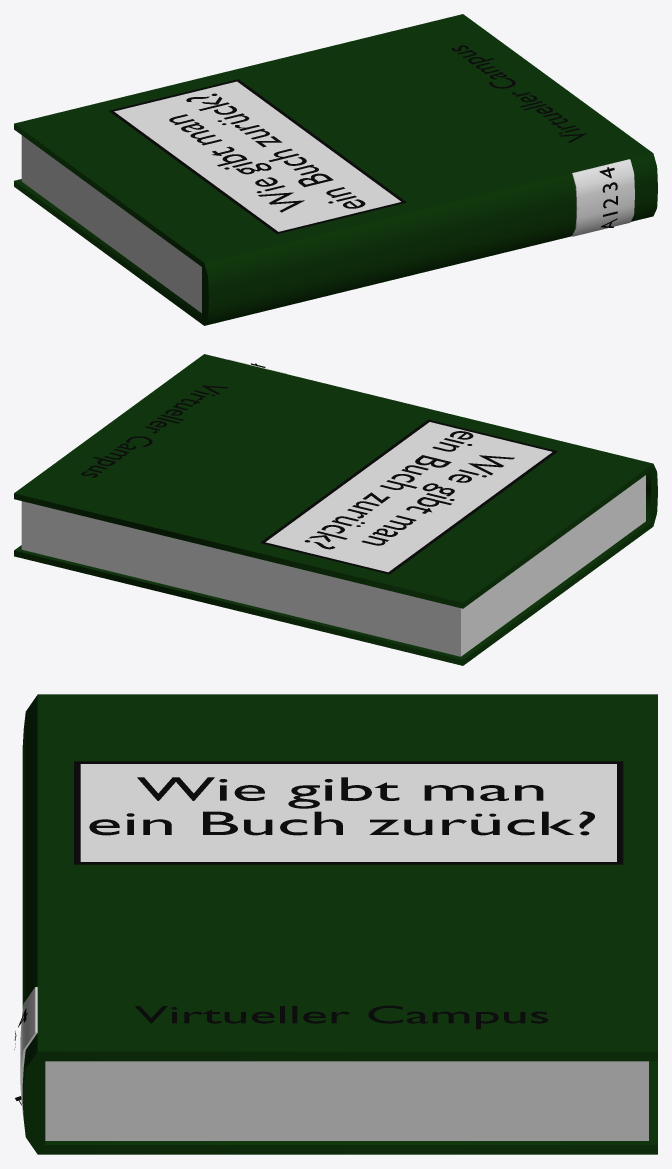
The model's file is Book_AR_closed.fbx.
The picture shows the model from 3 angles, top to bottom: view 1: azimuth 30°, elevation 25°; view 2: azimuth 150°, elevation 25°; view 3: azimuth 270°, elevation 25°; orthographic projection. The views are drawn at different scales.
Parts seen in each view (by area): view 1: Cube; view 2: Cube; view 3: Cube.
Part boxes in pixels (x1,y1,x2,y2): Cube: [14, 14, 657, 325]; Cube: [14, 354, 657, 665]; Cube: [14, 694, 657, 1154].
Size of the model in its own units: 200 by 27.58 by 152.
